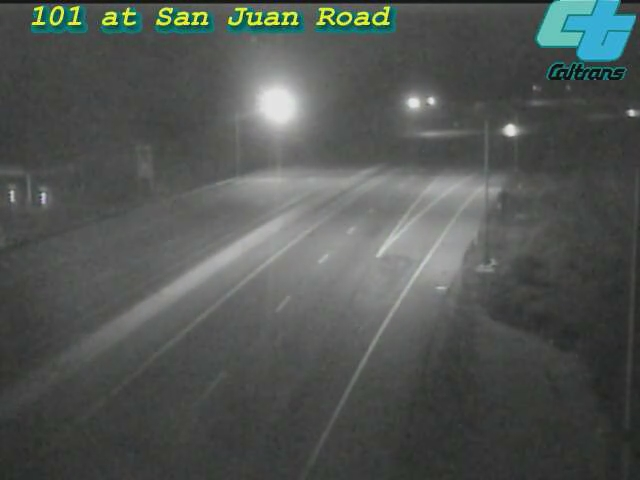vehicle: (485, 105, 535, 155), (607, 88, 640, 138)
